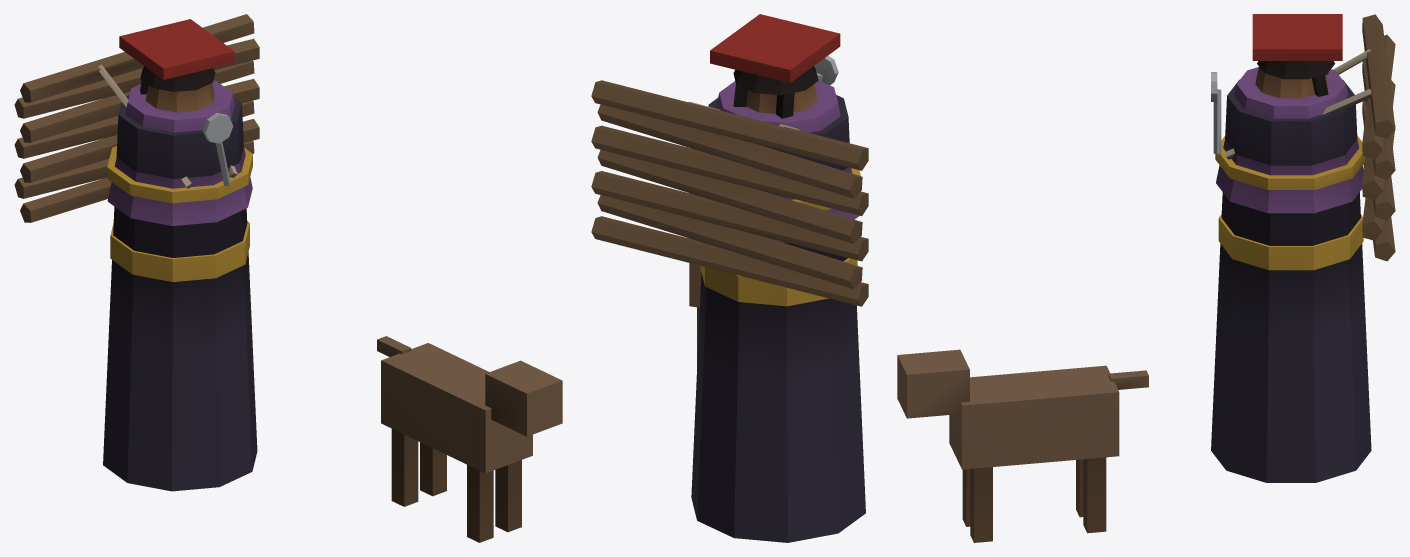
The model's file is handcart.glb.
The picture shows the model from 3 angles, left to right: view 1: azimuth 30°, elevation 25°; view 2: azimuth 150°, elevation 25°; view 3: azimuth 270°, elevation 25°; orthographic projection. The views are drawn at different scales.
Visible parts, largest first — view 1: base; view 2: base; view 3: base.
Part boxes in pixels (left/top/right/bottom): base: left=14, top=14, right=562, bottom=542; base: left=591, top=14, right=868, bottom=542; base: left=897, top=14, right=1395, bottom=542.
Size of the model in its own units: 1.13 by 1.44 by 1.55.
